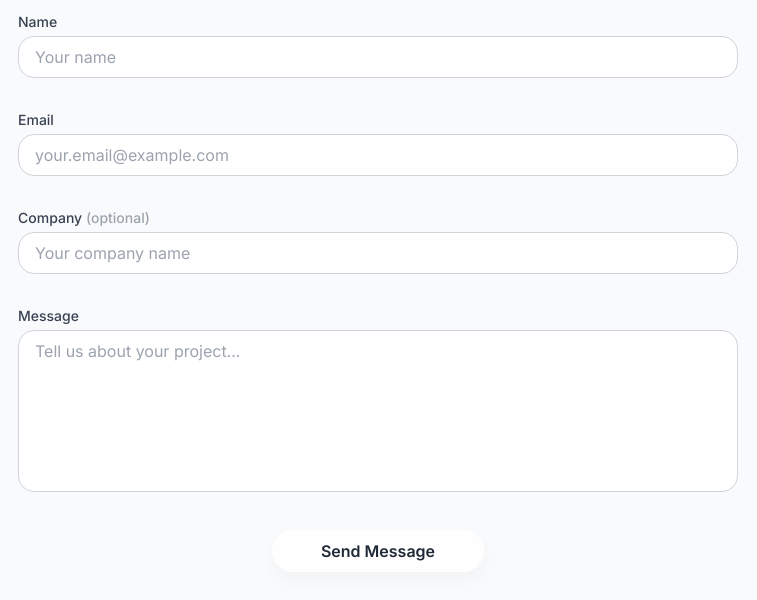
Test case: User Journey Tests › 2. Contact Form Validation › should display error for message that is too short
Step 1. Type "John Doe" into the field labelled "Name" → (378, 57), box top-left (18, 36), bottom-right (738, 78)
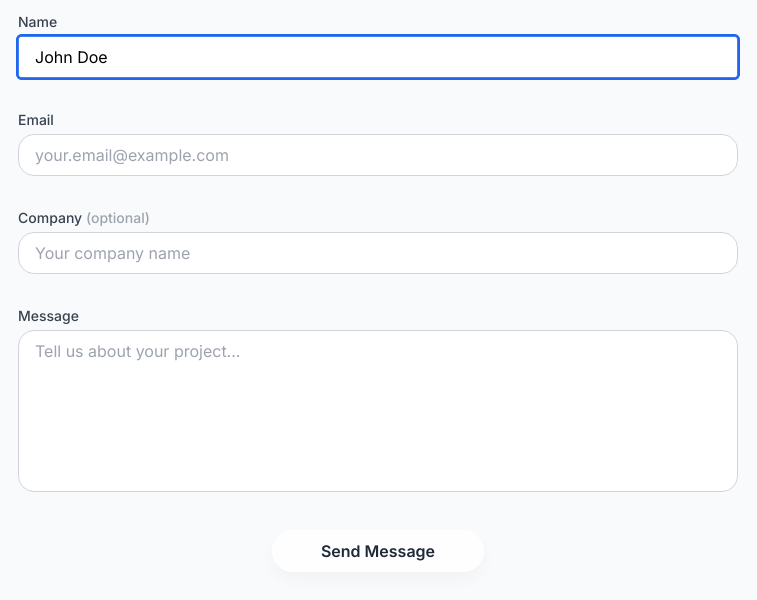
Step 2. Type "john@example.com" into the field labelled "Email" → (378, 155), box top-left (18, 134), bottom-right (738, 176)
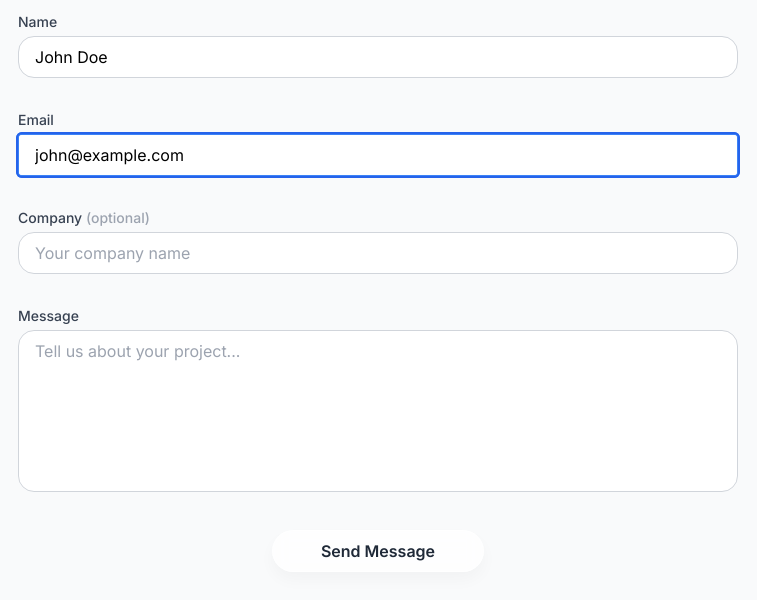
Step 3. Type "Short" into the text box labelled "Message" → (378, 411), box top-left (18, 330), bottom-right (738, 492)
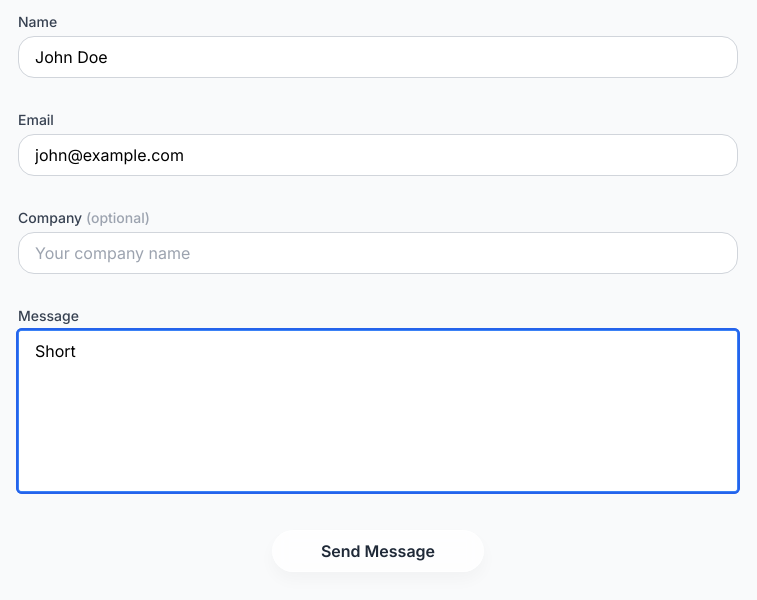
Step 4. Click the button "Send Message" → click(378, 551), box top-left (272, 530), bottom-right (484, 572)
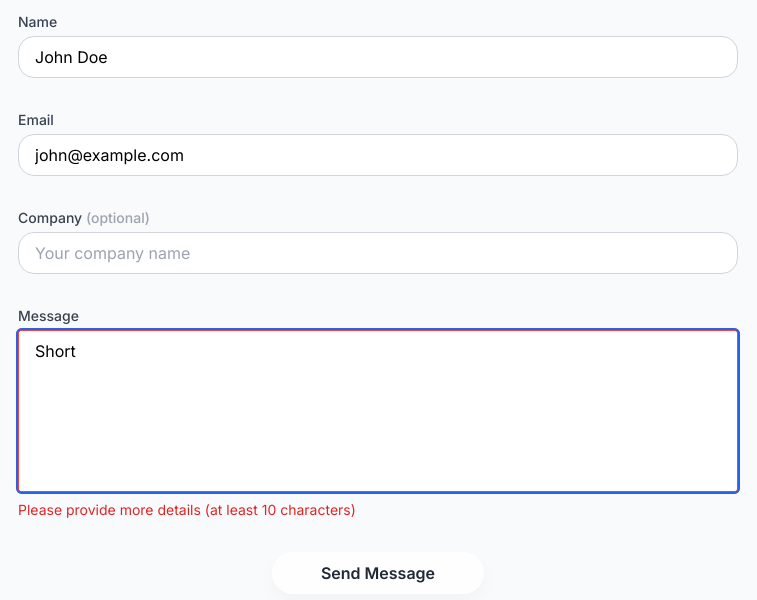
Result: the text "Please provide more details (at least 10 characters)" is shown at top-left (18, 501), bottom-right (356, 518)
